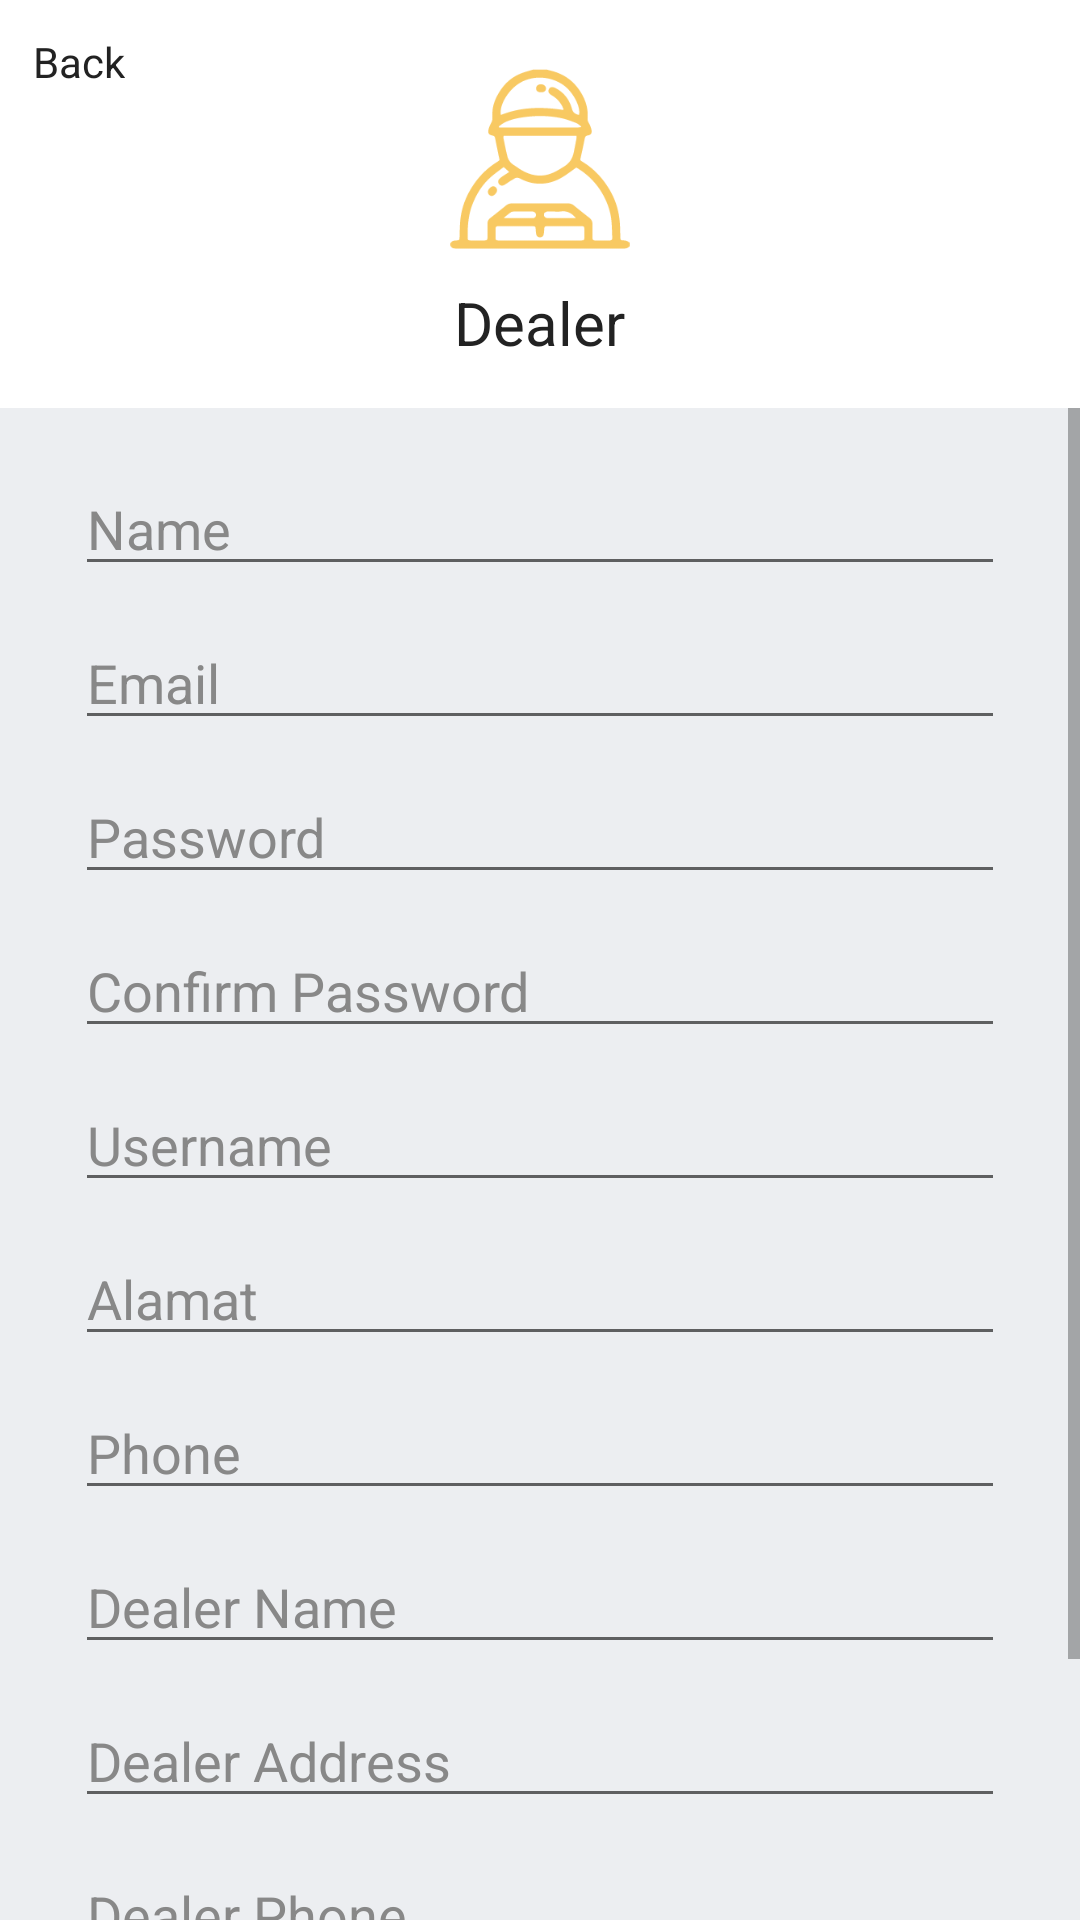

Icon bounding boxes for this 1080 × 1920 phone screenshot, format {"x1": x1, "y1": y1, "x2": x2, "y2": y2}:
iconsales: {"x1": 450, "y1": 69, "x2": 630, "y2": 249}
